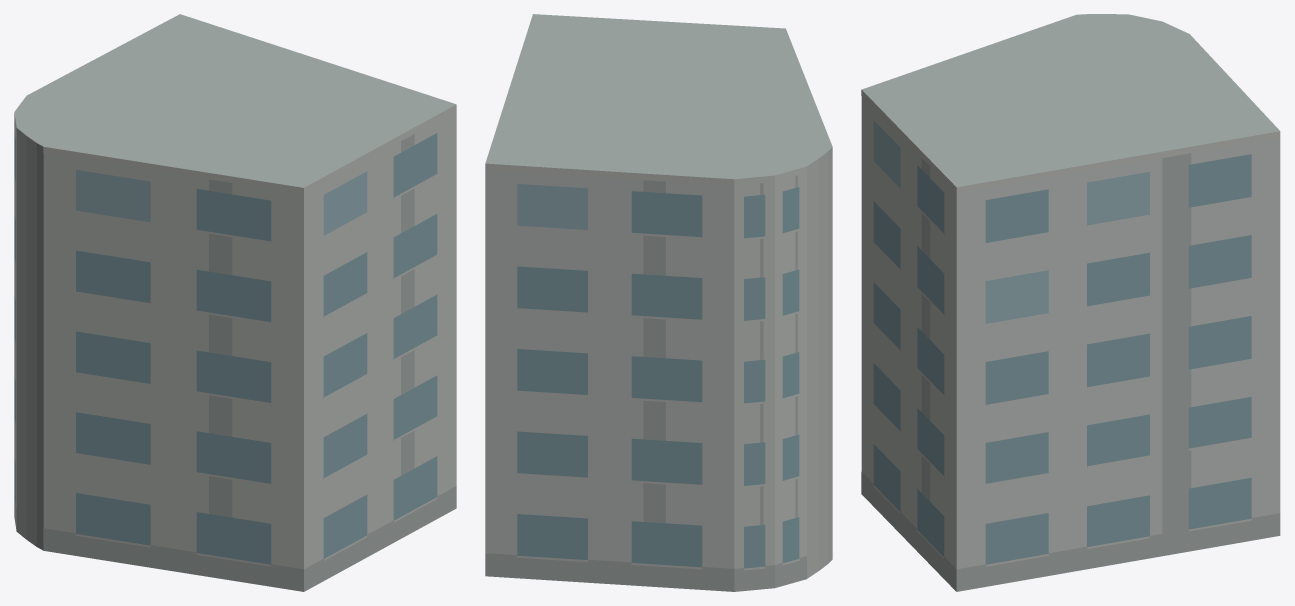
File: survey-upis-32859905.glb
3 views of the same model, side by side, from view 1: azimuth 30°, elevation 25°; view 2: azimuth 150°, elevation 25°; view 3: azimuth 270°, elevation 25° (orthographic). The views are drawn at different scales.
Visible parts, largest first — view 1: survey-upis-32859905.tmp; view 2: survey-upis-32859905.tmp; view 3: survey-upis-32859905.tmp.
Part boxes in pixels (x1,y1,x2,y2): survey-upis-32859905.tmp: [14, 14, 456, 591]; survey-upis-32859905.tmp: [485, 14, 832, 591]; survey-upis-32859905.tmp: [861, 14, 1280, 591].
Bounding box in the file's own units: 13.98 × 15.2 × 14.27.
